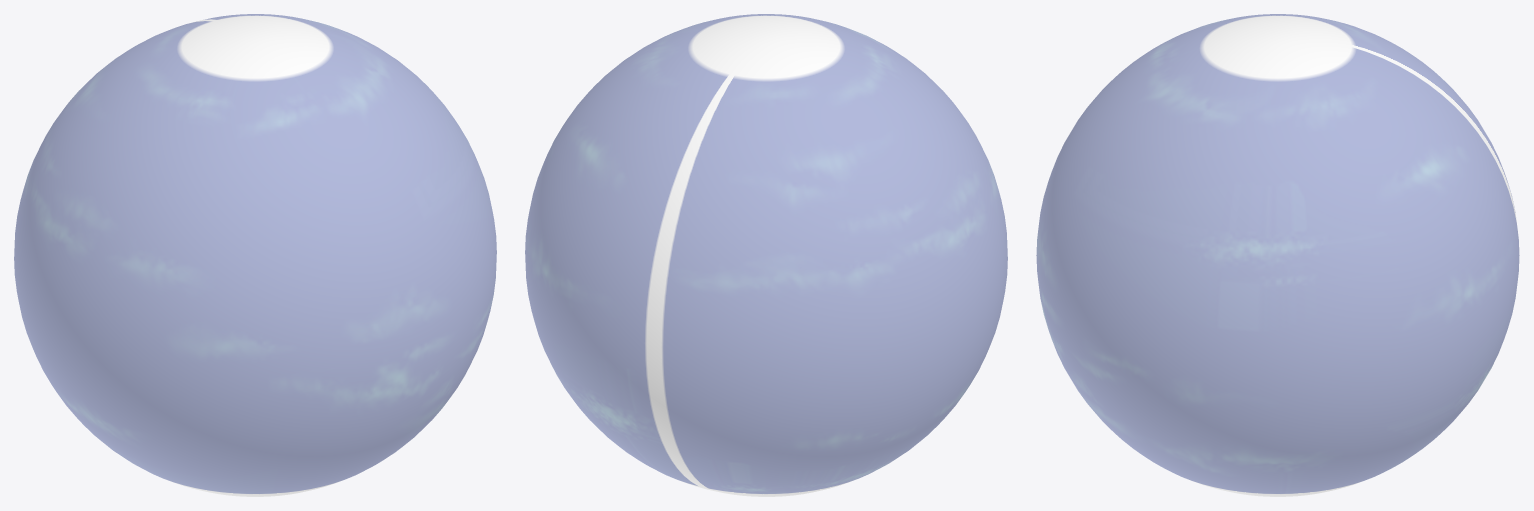
Rendered from Neptune.gltf.
3 renders of one model, left to right at view 1: azimuth 30°, elevation 25°; view 2: azimuth 150°, elevation 25°; view 3: azimuth 270°, elevation 25°, orthographic.
Visible parts, largest first — view 1: Neptune_Clouds; view 2: Neptune_Clouds; view 3: Neptune_Clouds.
Boxes of the visible parts, x1,y1,x2,y2 form: Neptune_Clouds: (14, 14, 496, 496); Neptune_Clouds: (525, 14, 1007, 496); Neptune_Clouds: (1036, 14, 1519, 496).
Size of the model in its own units: 20.4 by 20.4 by 20.4.
Materials: 2 (2 with a texture image).
